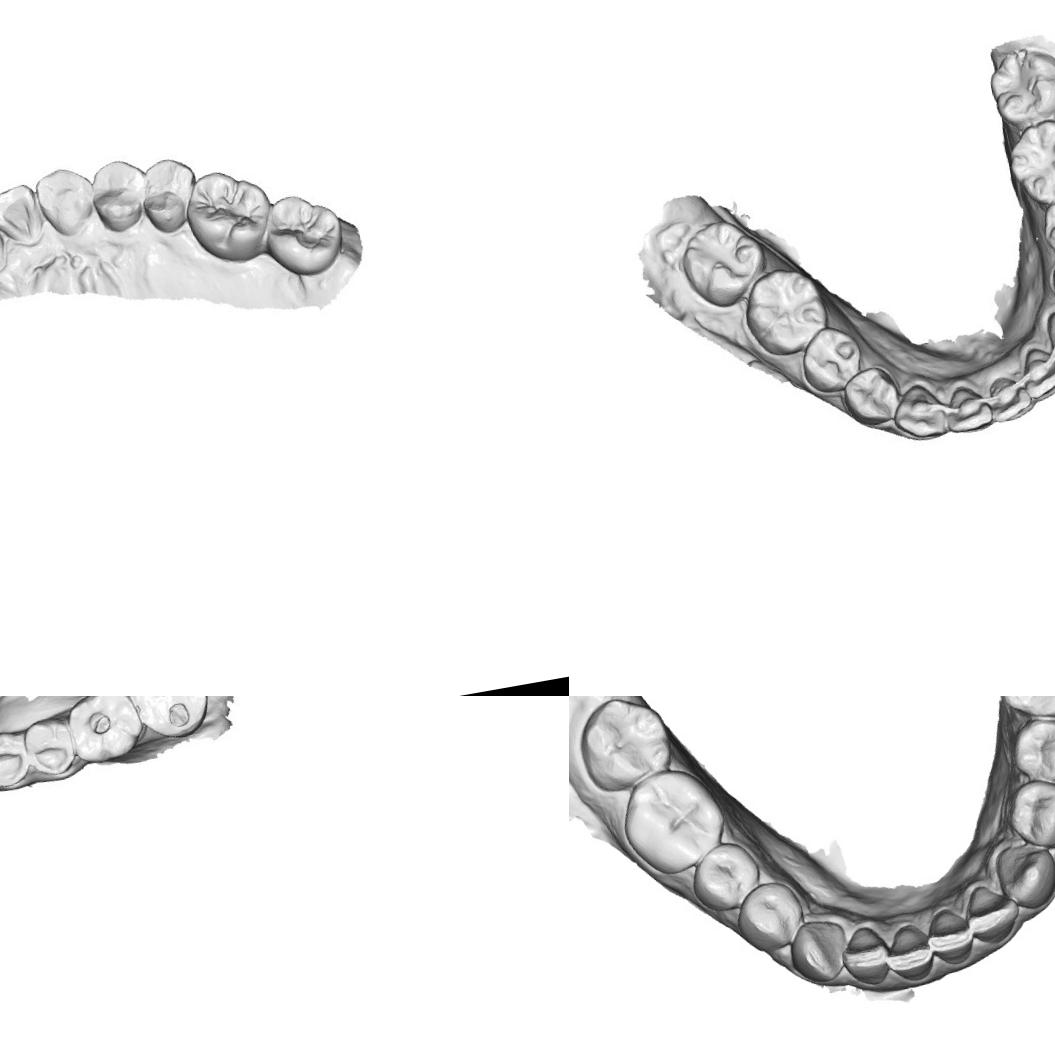canine: (32, 164, 101, 240), (991, 836, 1055, 913), (785, 914, 850, 989), (888, 380, 950, 444), (1041, 303, 1055, 368)
incisor: (963, 876, 1024, 946), (836, 920, 891, 990), (878, 918, 936, 984), (924, 903, 978, 969), (0, 179, 44, 256), (938, 377, 994, 434), (985, 368, 1038, 426), (1021, 341, 1055, 399)
molar: (614, 762, 732, 882), (177, 162, 278, 269), (572, 696, 676, 794), (676, 212, 770, 312), (740, 262, 832, 358), (256, 187, 348, 281), (982, 41, 1055, 127), (60, 696, 147, 768), (1004, 114, 1055, 207), (127, 696, 214, 743)
premolar: (732, 874, 814, 960), (686, 837, 764, 917), (132, 154, 204, 236), (84, 155, 152, 234), (1003, 774, 1055, 854), (802, 326, 863, 392), (19, 713, 77, 781), (1006, 712, 1055, 790), (842, 368, 900, 428), (0, 726, 32, 789), (1040, 189, 1055, 258)
